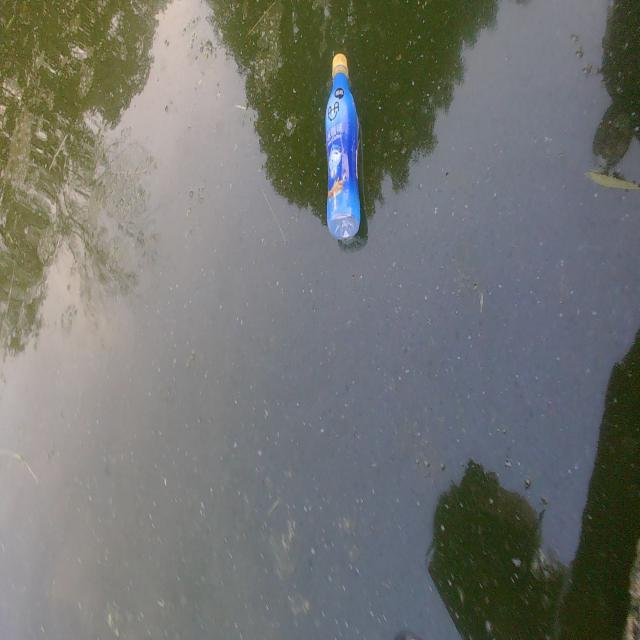Bottle: (321, 48, 365, 244)
